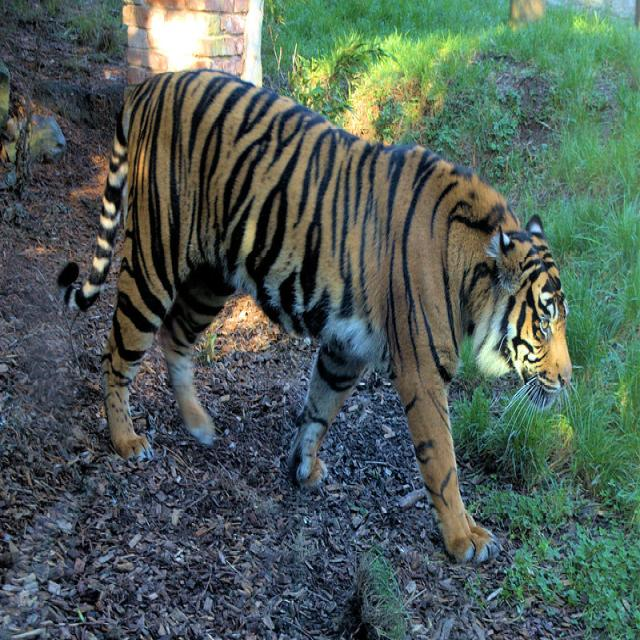Tiger: (52, 66, 575, 567)
